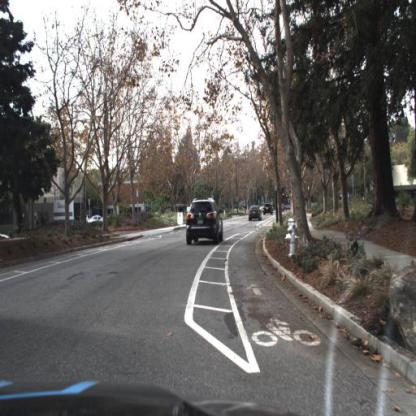car: (185, 196, 225, 248), (247, 204, 262, 223), (89, 213, 104, 224), (263, 203, 272, 216)
